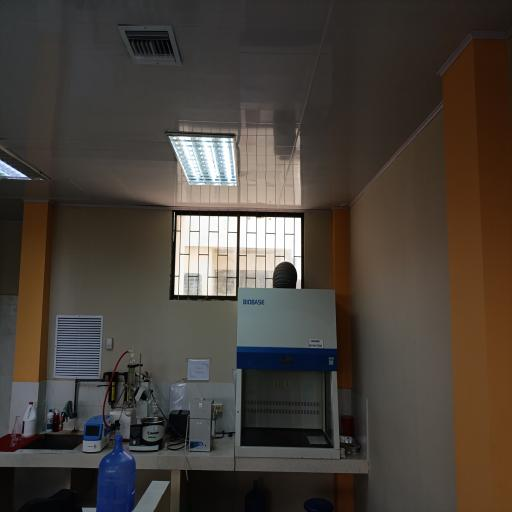Camara_Extractora_Biobase: (233, 282, 344, 469)
